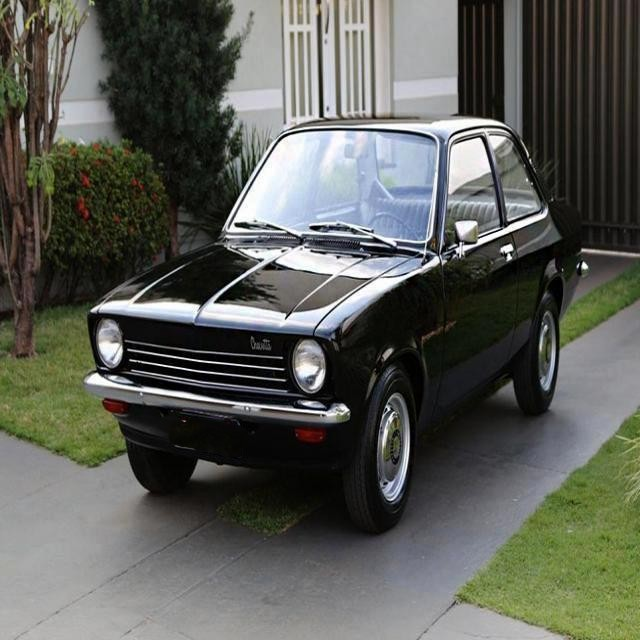car: (84, 113, 582, 532)
